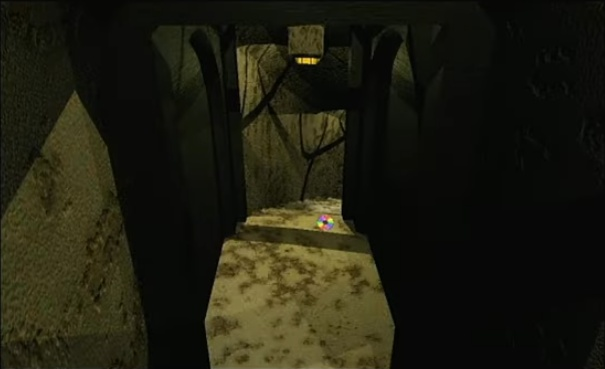Waiting: (315, 211, 337, 231)
